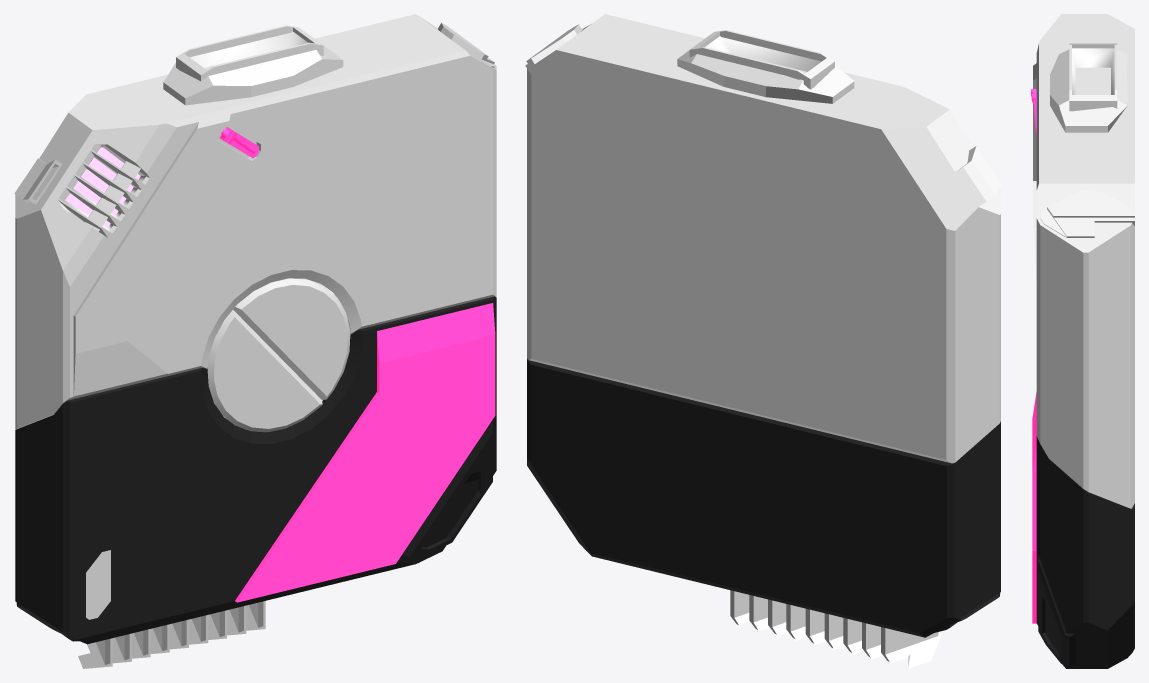
The model's file is EMMISION_BADGE2.glb.
3 renders of one model, left to right at view 1: azimuth 30°, elevation 25°; view 2: azimuth 150°, elevation 25°; view 3: azimuth 270°, elevation 25°, orthographic. The views are drawn at different scales.
Visible parts, largest first — view 1: MAIN.001, Solid.003, Extruded.046, Extruded.047, Extruded.042, Extruded.059; view 2: MAIN.001, Solid.003, Extruded.059; view 3: MAIN.001, Solid.003, Extruded.046.
Part boxes in pixels (<box>): MAIN.001: <box>14,14,496,429</box>; Solid.003: <box>15,296,496,644</box>; Extruded.046: <box>235,303,495,602</box>; Extruded.047: <box>207,278,350,432</box>; Extruded.042: <box>86,550,110,619</box>; Extruded.059: <box>78,638,112,668</box>; MAIN.001: <box>525,14,1002,463</box>; Solid.003: <box>527,358,1000,637</box>; Extruded.059: <box>881,627,941,668</box>; MAIN.001: <box>1033,14,1134,508</box>; Solid.003: <box>1036,436,1134,668</box>; Extruded.046: <box>1032,392,1036,623</box>.
Bounding box in the file's own units: 0.6584 × 0.7613 × 0.1284.
Materials: 6 (2 with a texture image).
